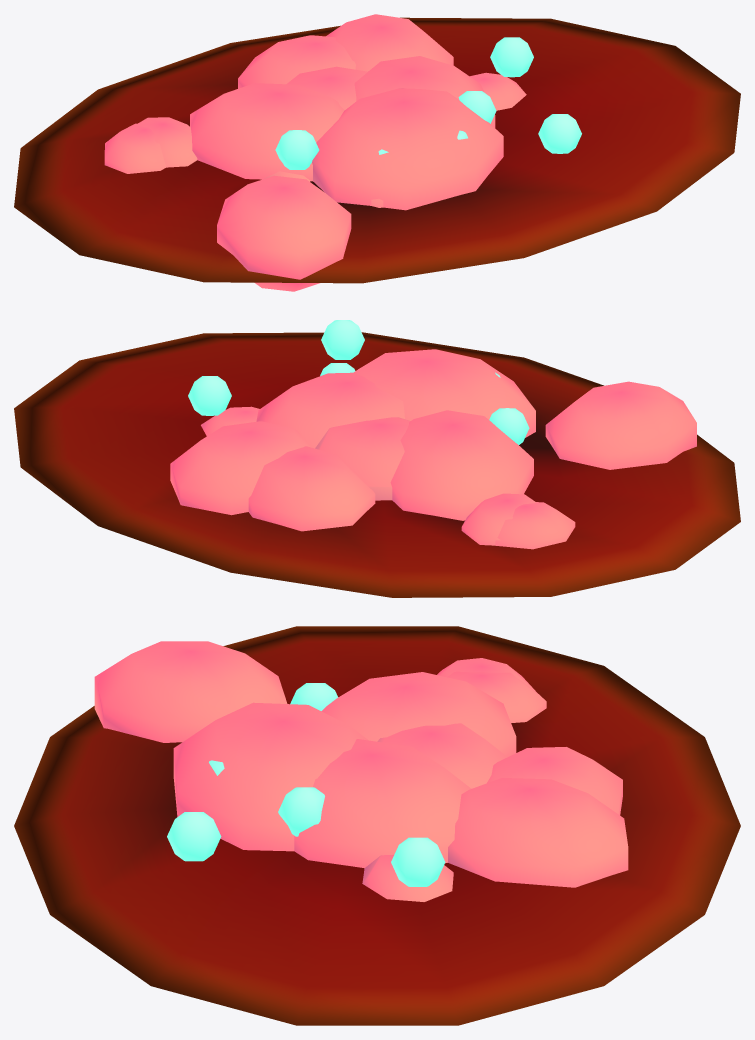
File: corruption_patch.glb
3 views of the same model, one above another, from view 1: azimuth 30°, elevation 25°; view 2: azimuth 150°, elevation 25°; view 3: azimuth 270°, elevation 25° (orthographic). The views are drawn at different scales.
Parts seen in each view (by area): view 1: corruption_patch; view 2: corruption_patch; view 3: corruption_patch.
Part boxes in pixels (x1,y1,x2,y2): corruption_patch: (14,14,740,291); corruption_patch: (14,320,740,597); corruption_patch: (14,626,740,1025).
Bounding box in the file's own units: 3.12 × 0.5531 × 2.4.
